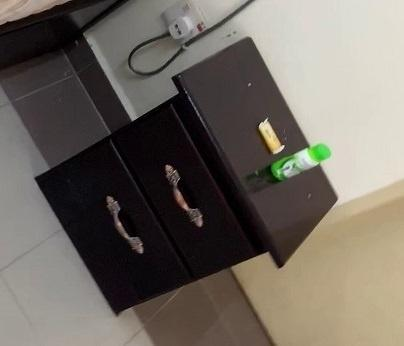cabinet_door: (143, 104, 212, 272), (75, 142, 141, 307)
handle: (164, 159, 207, 231), (105, 194, 148, 257)
